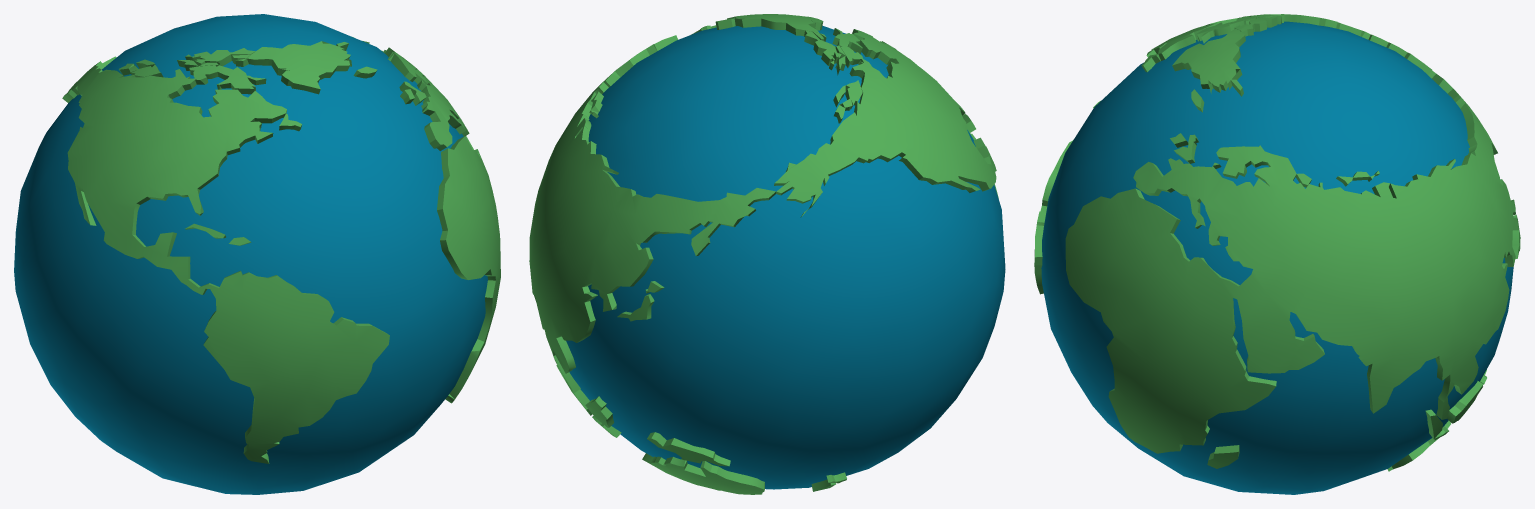
File: earth.glb
3 renders of one model, left to right at view 1: azimuth 30°, elevation 25°; view 2: azimuth 150°, elevation 25°; view 3: azimuth 270°, elevation 25°, orthographic. The views are drawn at different scales.
Parts seen in each view (by area): view 1: Esfera geodésica.001, Map.001; view 2: Esfera geodésica.001, Map.001; view 3: Map.001, Esfera geodésica.001.
Boxes of the visible parts, x1=… form: Esfera geodésica.001: x1=14, y1=14, x2=487, y2=494; Map.001: x1=62, y1=37, x2=500, y2=463; Esfera geodésica.001: x1=566, y1=25, x2=1005, y2=489; Map.001: x1=529, y1=14, x2=998, y2=494; Map.001: x1=1034, y1=14, x2=1520, y2=471; Esfera geodésica.001: x1=1041, y1=21, x2=1513, y2=494.
Bounding box in the file's own units: 4.63 × 4.6 × 4.68.
